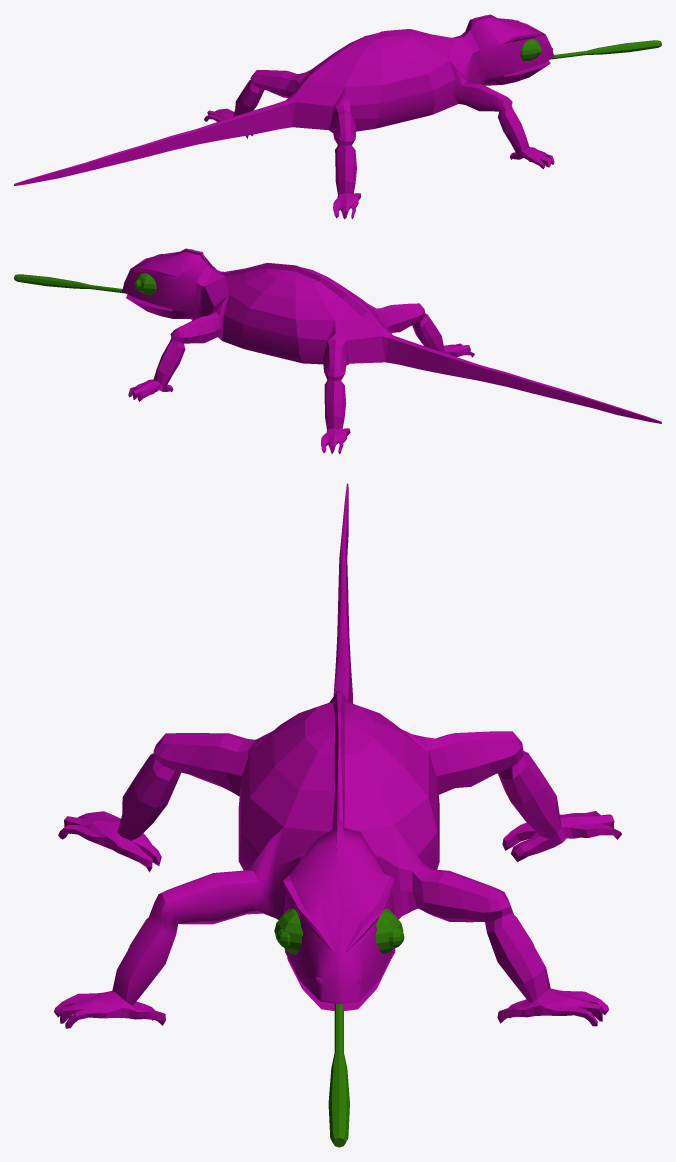
The model's file is chameleon_scaledPROPERLY_USE_ME.fbx.
3 renders of one model, top to bottom at view 1: azimuth 30°, elevation 25°; view 2: azimuth 150°, elevation 25°; view 3: azimuth 270°, elevation 25°, orthographic. The views are drawn at different scales.
Parts seen in each view (by area): view 1: pCube2, pCylinder1, pSphere2; view 2: pCube2, pCylinder1, pSphere12; view 3: pCube2, pCylinder1.
Boxes of the visible parts, x1,y1,x2,y2 form: pCube2: (14, 14, 554, 219); pCylinder1: (551, 40, 661, 59); pSphere2: (520, 39, 539, 60); pCube2: (122, 248, 661, 453); pCylinder1: (14, 274, 124, 293); pSphere12: (137, 273, 156, 294); pCube2: (54, 483, 621, 1028); pCylinder1: (328, 1003, 349, 1147).
Bounding box in the file's own units: 0.6903 × 0.1202 × 0.2637.
